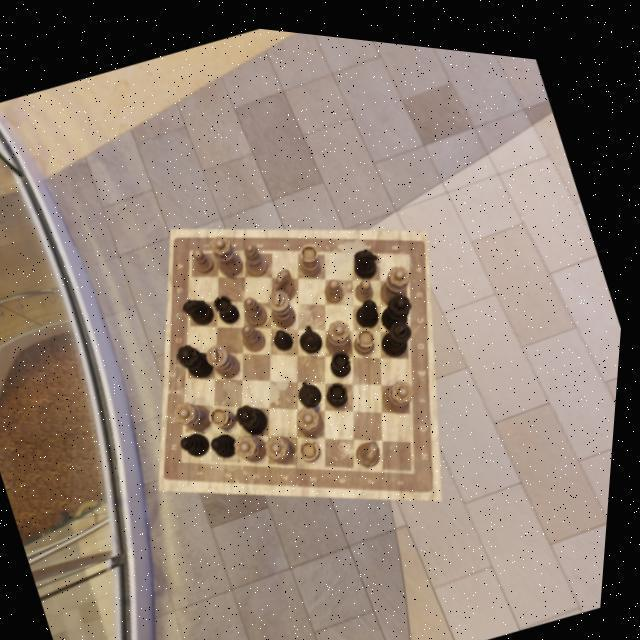chess-table-corners: (176, 231, 212, 265), (402, 438, 432, 478), (396, 226, 425, 258), (178, 442, 204, 468)
